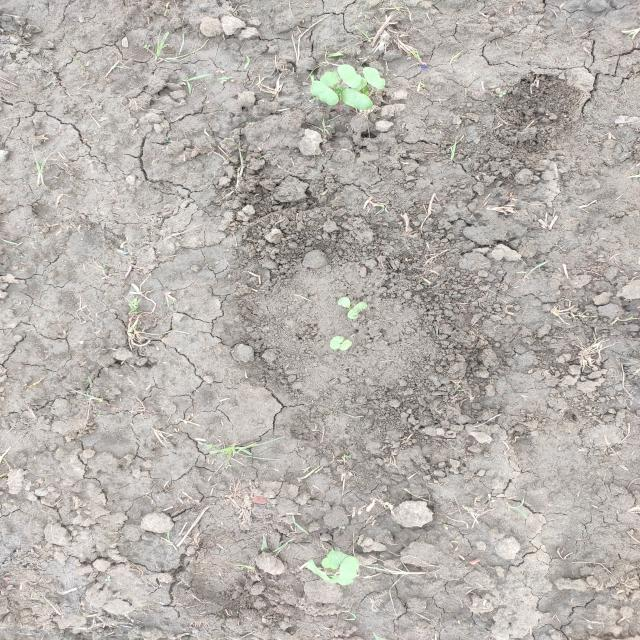seedling: (310, 80, 339, 105), (337, 64, 366, 88), (342, 88, 373, 110), (307, 559, 333, 582), (362, 66, 385, 89), (339, 557, 359, 579), (321, 549, 340, 569), (347, 302, 367, 319), (328, 575, 354, 586), (320, 71, 338, 86), (330, 336, 344, 350), (337, 297, 351, 308), (339, 340, 352, 350)
